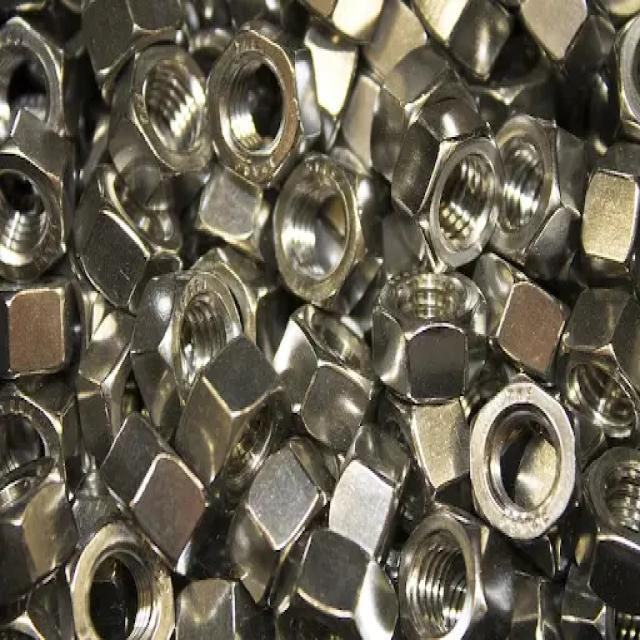Logam: (49, 36, 628, 594)
